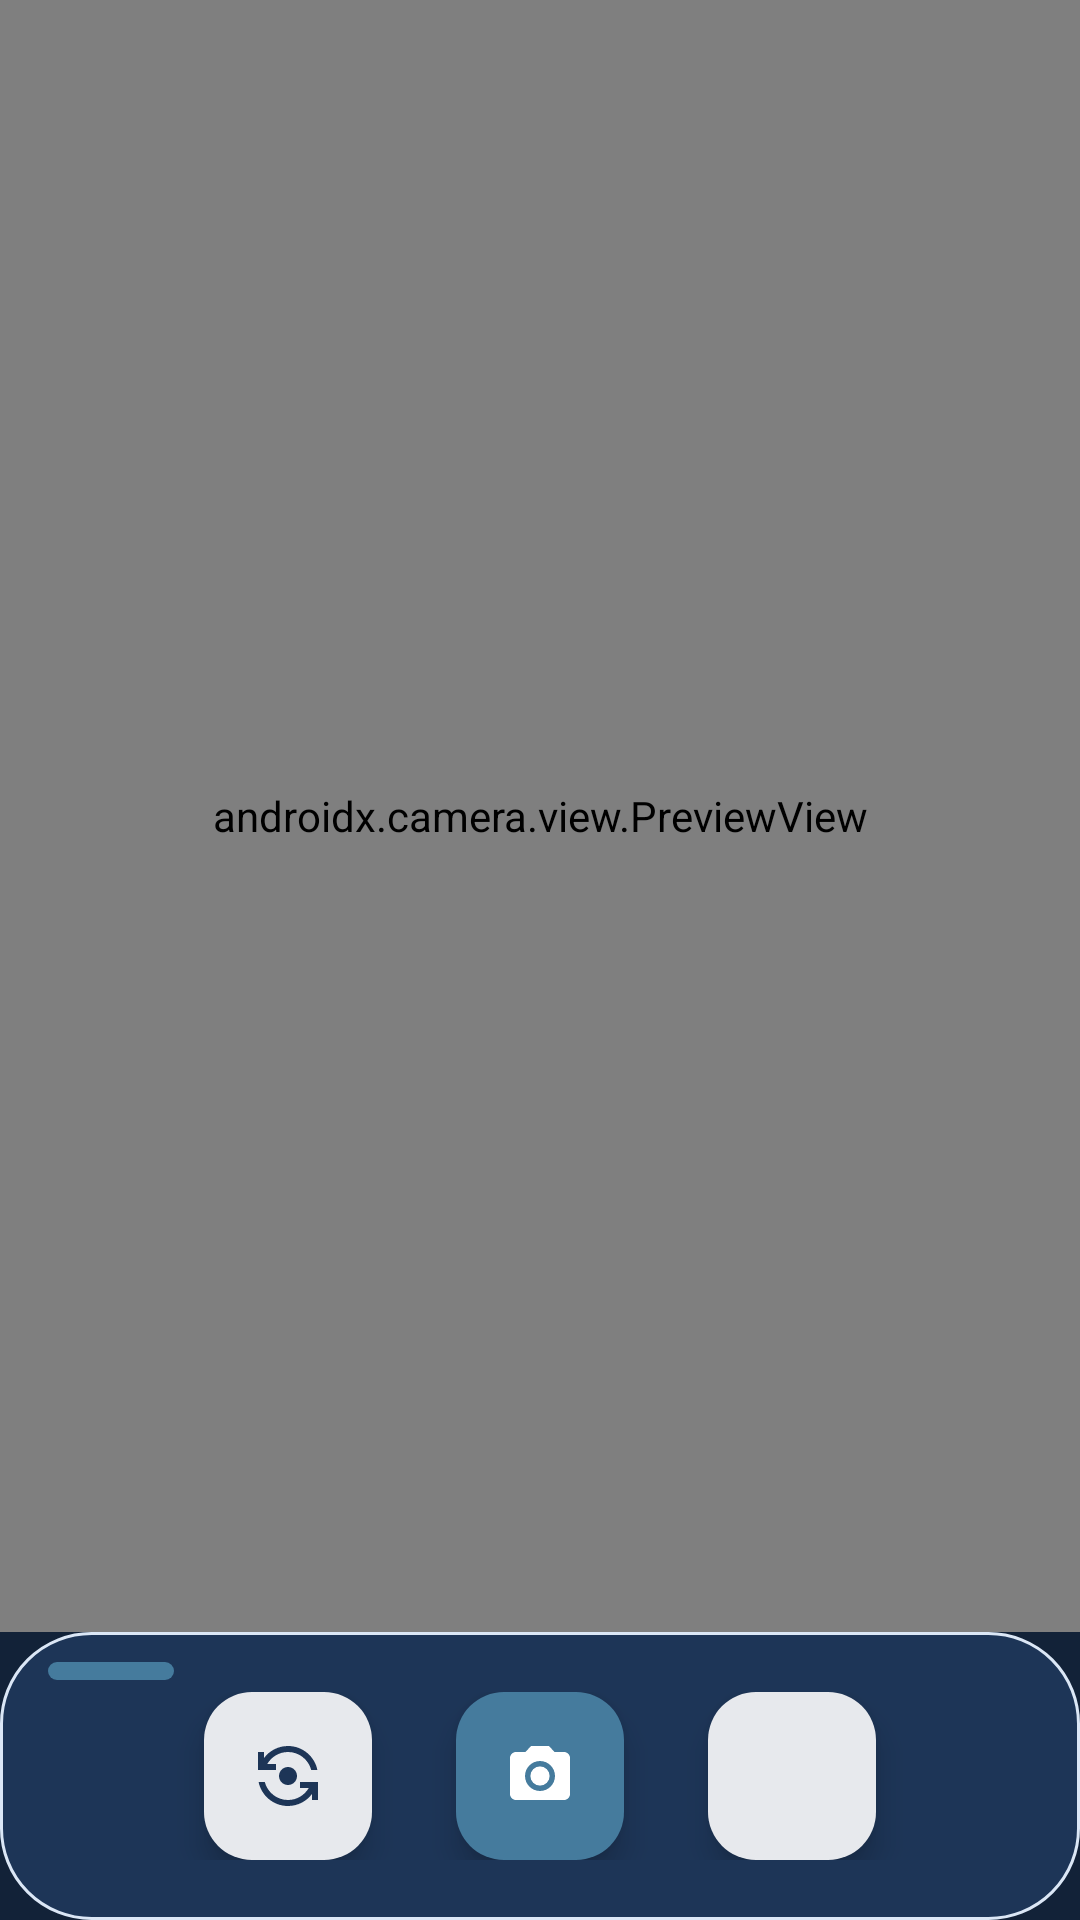

Named icons in this screenshot (1080 x 1920) and their centers, [x,y]:
Capturer: [540,1776]
Changer de caméra: [288,1776]
